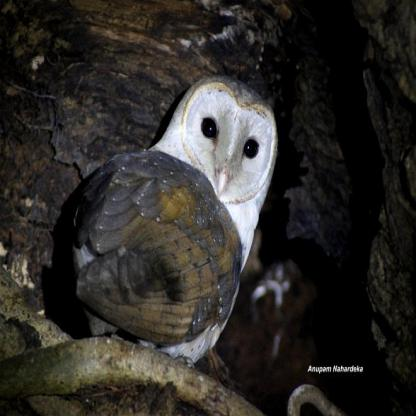Burung: (59, 72, 279, 344)
